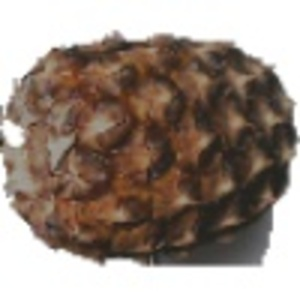abacaxi: (2, 30, 291, 264)
